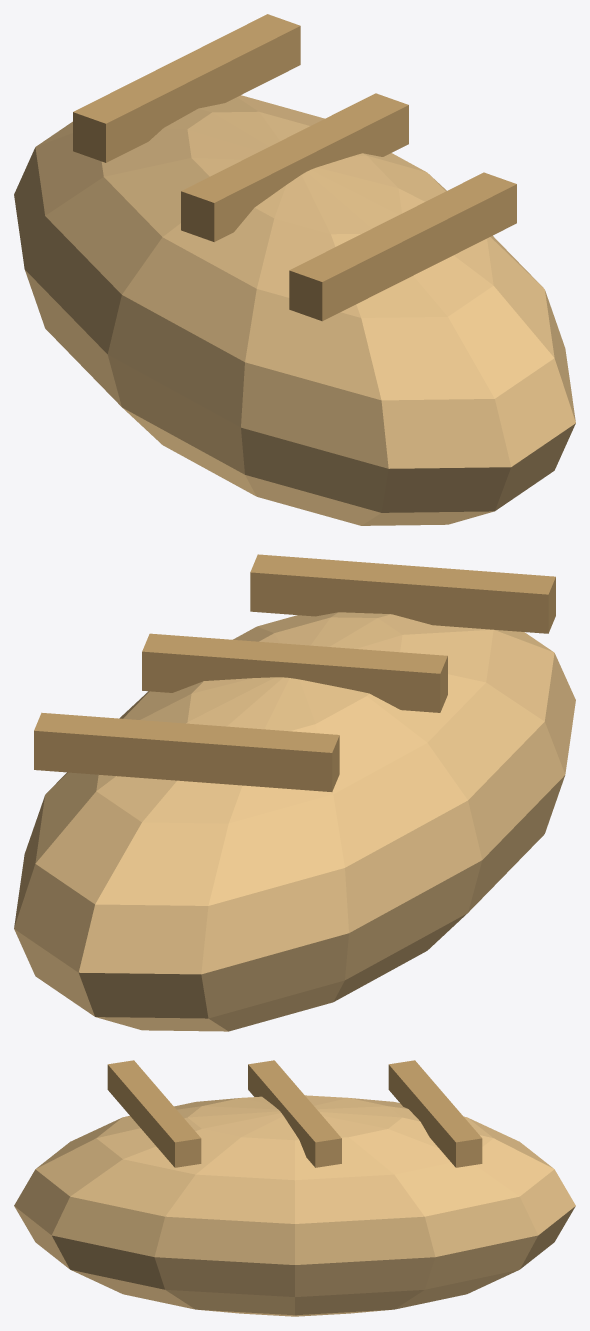
File: bread_held.gltf
The picture shows the model from 3 angles, top to bottom: view 1: azimuth 30°, elevation 25°; view 2: azimuth 150°, elevation 25°; view 3: azimuth 270°, elevation 25°; orthographic projection. The views are drawn at different scales.
Parts seen in each view (by area): view 1: farm_bread_held; view 2: farm_bread_held; view 3: farm_bread_held.
Part boxes in pixels (x1,y1,x2,y2): farm_bread_held: (14,14,575,525); farm_bread_held: (14,554,575,1031); farm_bread_held: (14,1060,575,1316).
Bounding box in the file's own units: 0.1 × 0.0785 × 0.2.
